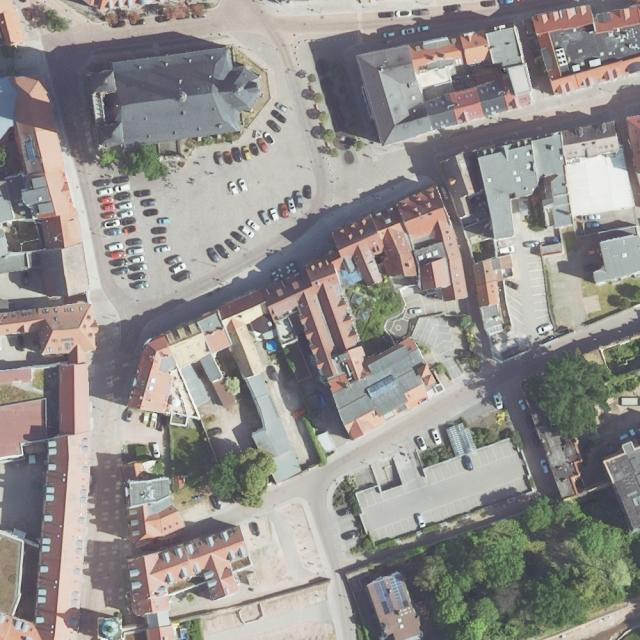PV: (375, 580, 395, 616), (389, 575, 409, 610), (26, 141, 35, 161)
